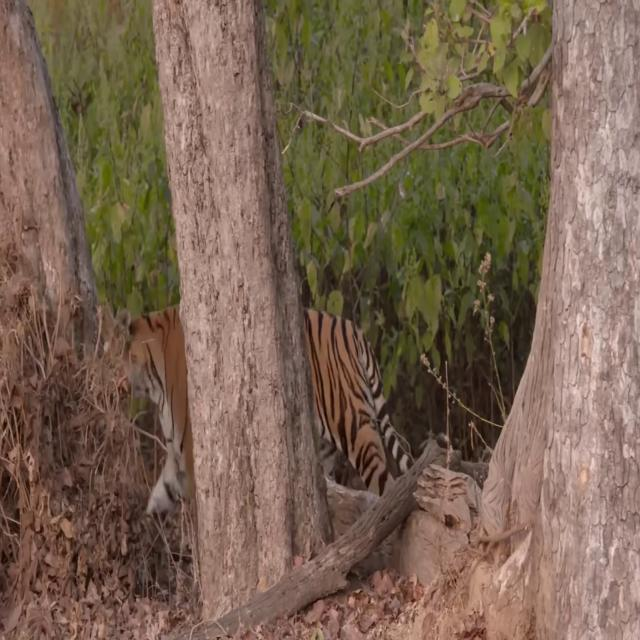tiger: (112, 302, 416, 520)
